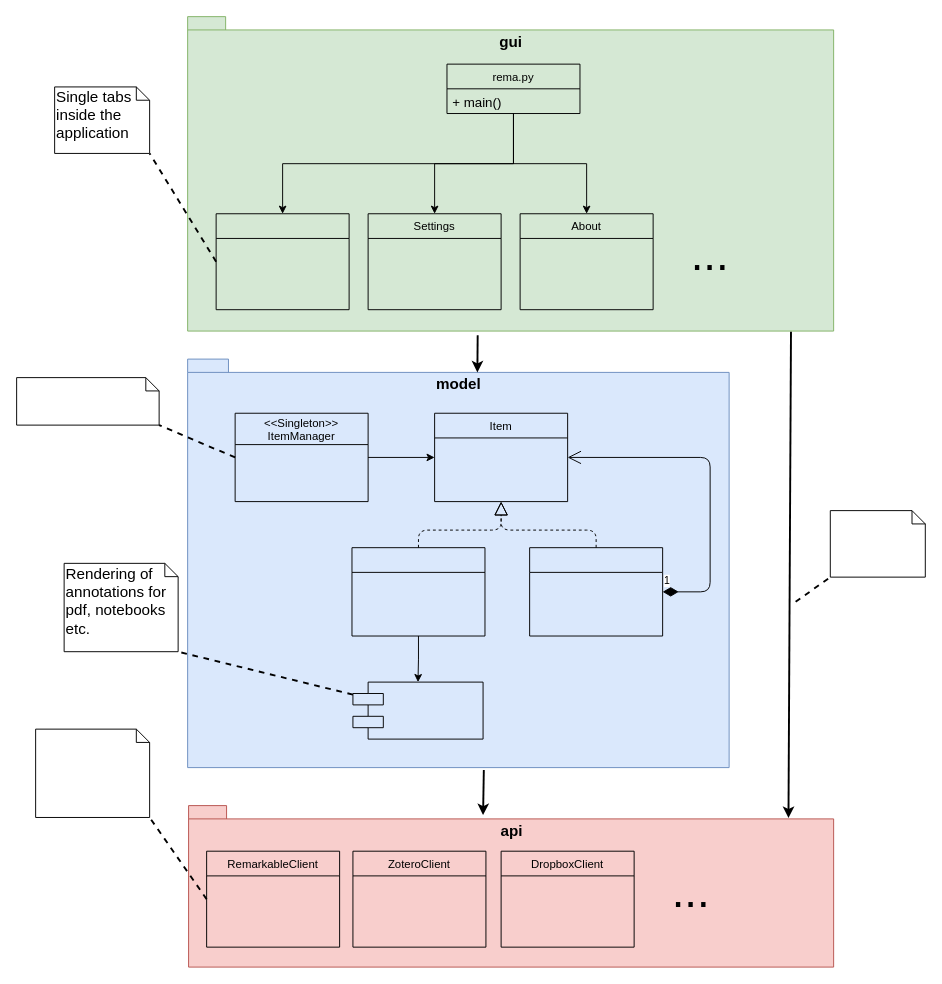
The diagram is 942 pixels wide and 984 high, and some of its shapes have lost their labels. Here are the shapes that lost their labels. From the top down, the centre of each, then its label:
(282,261): FileExplorer
(87,401): Manage document tree (get, add, del.)
(877,543): Subscribe to login events etc.
(418,591): Document
(596,591): Collection
(417,710): render
(92,772): Interfaces to other systems e.g. the remarkable cloud
